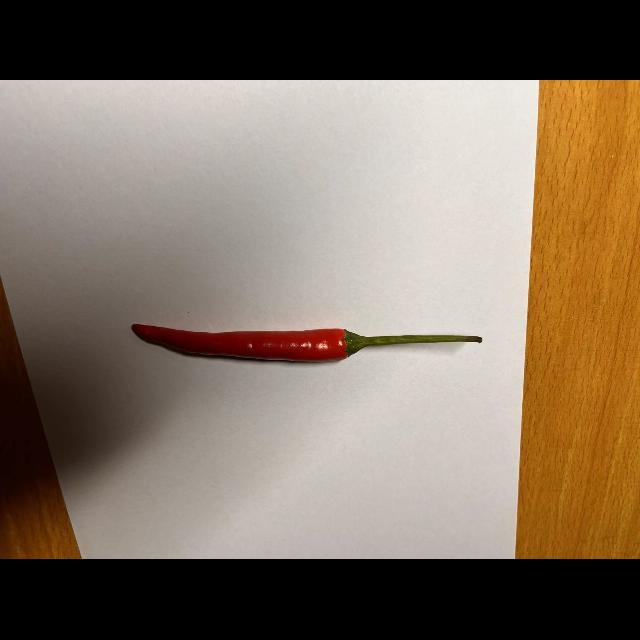chili_pepper: (124, 306, 493, 373)
